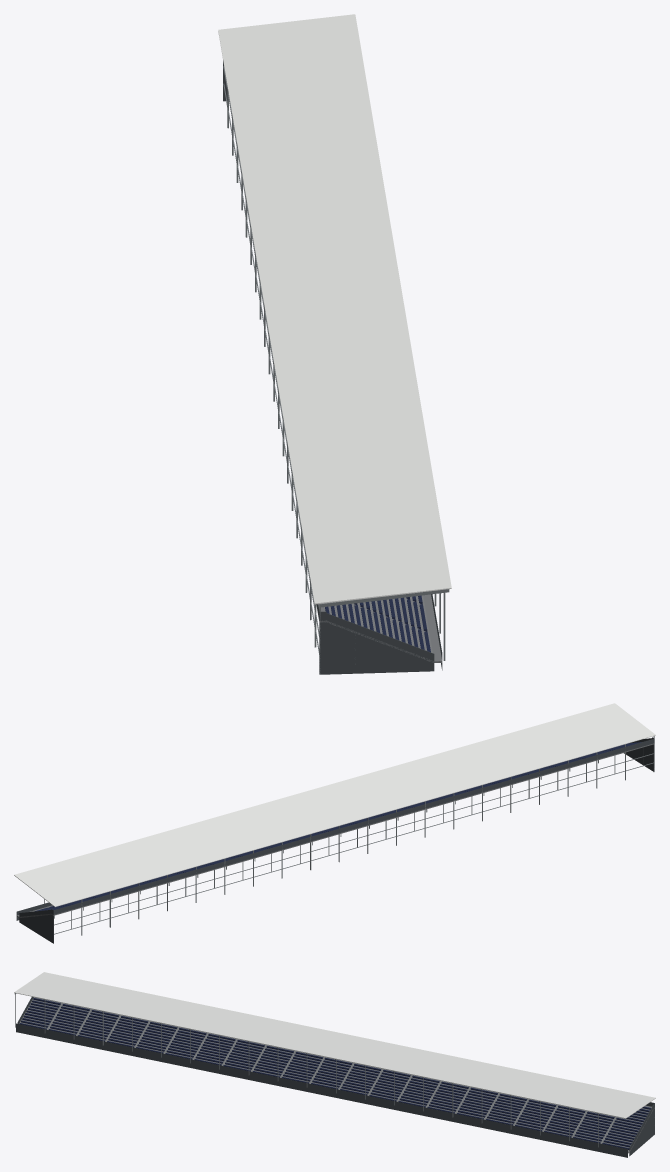
File: sil_stand_luffield.glb
3 renders of one model, top to bottom at view 1: azimuth 30°, elevation 25°; view 2: azimuth 150°, elevation 25°; view 3: azimuth 270°, elevation 25°, orthographic. The views are drawn at different scales.
Parts seen in each view (by area): view 1: silverstone-luffield; view 2: silverstone-luffield; view 3: silverstone-luffield.
Part boxes in pixels (box(x1,y1,x2,y2)): silverstone-luffield: box(218, 14, 451, 674); silverstone-luffield: box(14, 703, 655, 943); silverstone-luffield: box(14, 972, 655, 1157).
Bounding box in the file's own units: 90.46 × 11.52 × 162.
